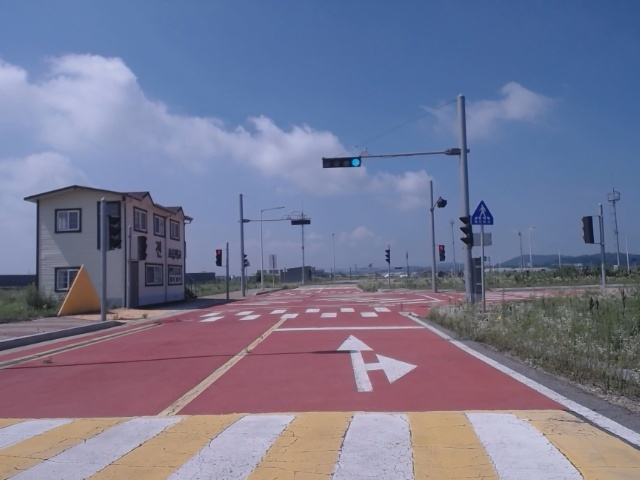straight_green_4: (322, 159, 361, 168)
